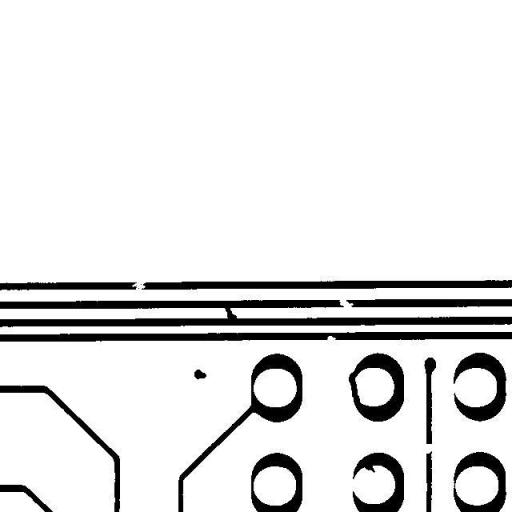copper: (186, 362, 214, 386)
mousebite: (318, 328, 344, 349)
open: (331, 290, 361, 317), (124, 272, 154, 298), (414, 436, 444, 461)
short: (341, 359, 368, 412), (212, 294, 244, 326)
spur: (357, 454, 382, 480)
